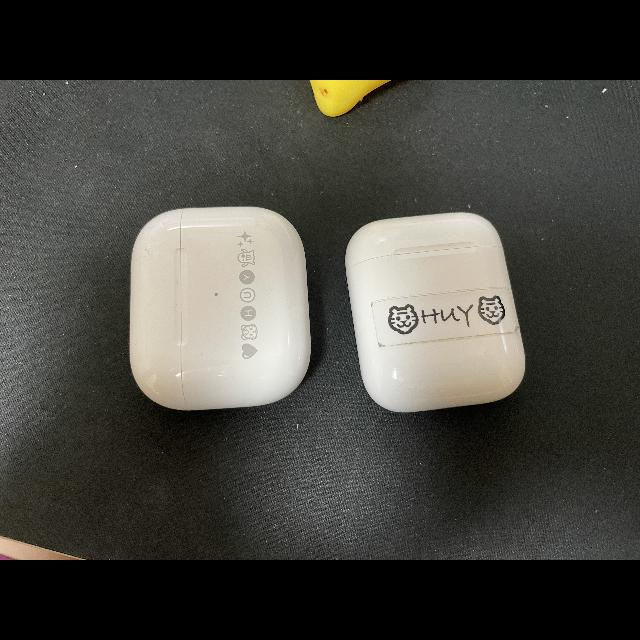airpod2: (343, 209, 534, 417)
airpod3: (124, 204, 316, 413)
